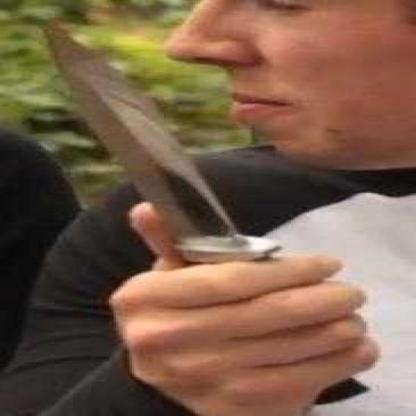Knife: (36, 20, 382, 409)
